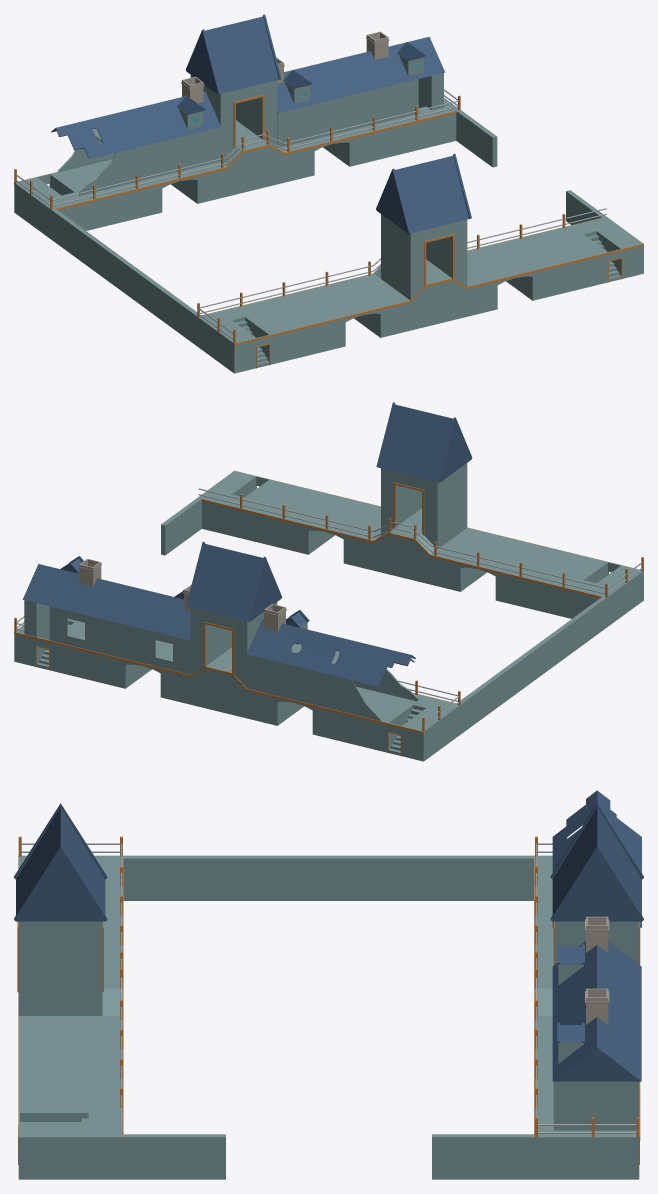
File: house2.fbx
3 views of the same model, one above another, from view 1: azimuth 30°, elevation 25°; view 2: azimuth 150°, elevation 25°; view 3: azimuth 270°, elevation 25° (orthographic). The views are drawn at different scales.
Parts seen in each view (by area): view 1: polySurface27; view 2: polySurface27; view 3: polySurface27.
Boxes of the visible parts, box(x1,y1,x2,y2) form: polySurface27: box(14, 14, 643, 373); polySurface27: box(14, 402, 643, 761); polySurface27: box(14, 790, 643, 1179).
Size of the model in its own units: 4793 by 1695 by 4528.
